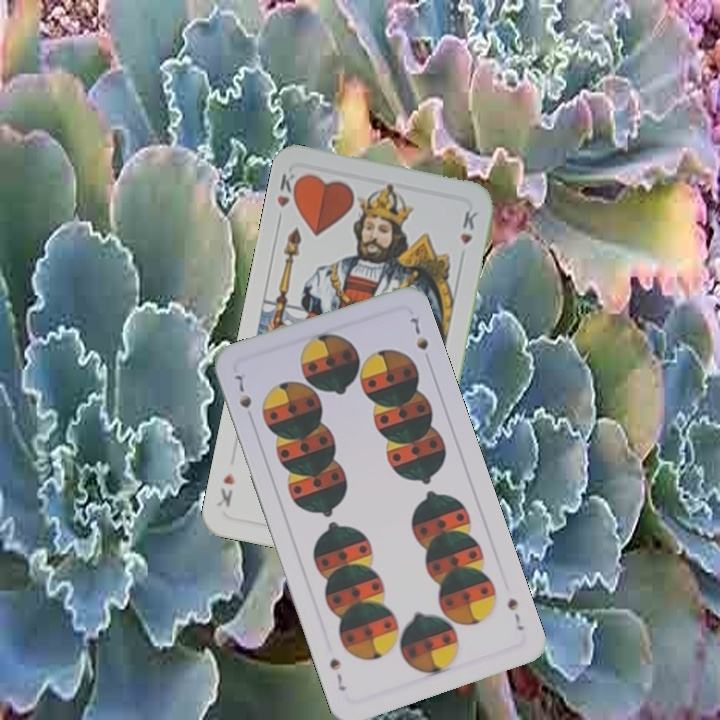HK: (273, 168, 304, 226)
S7: (230, 370, 254, 411), (503, 594, 527, 633)
